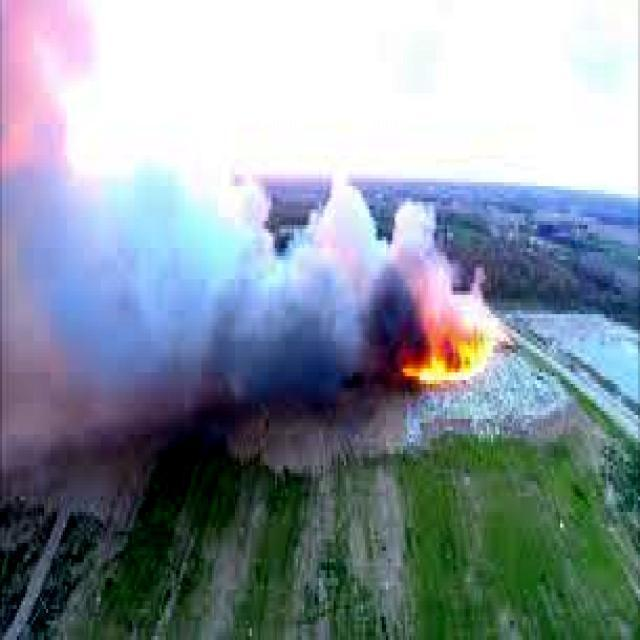Fire: (402, 326, 486, 398)
Smoke: (0, 101, 489, 423)
